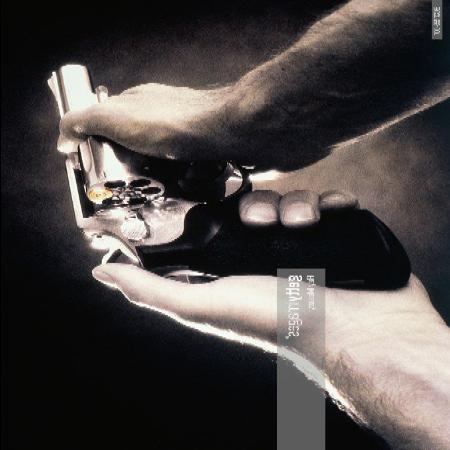Pistol: (38, 59, 413, 294)
